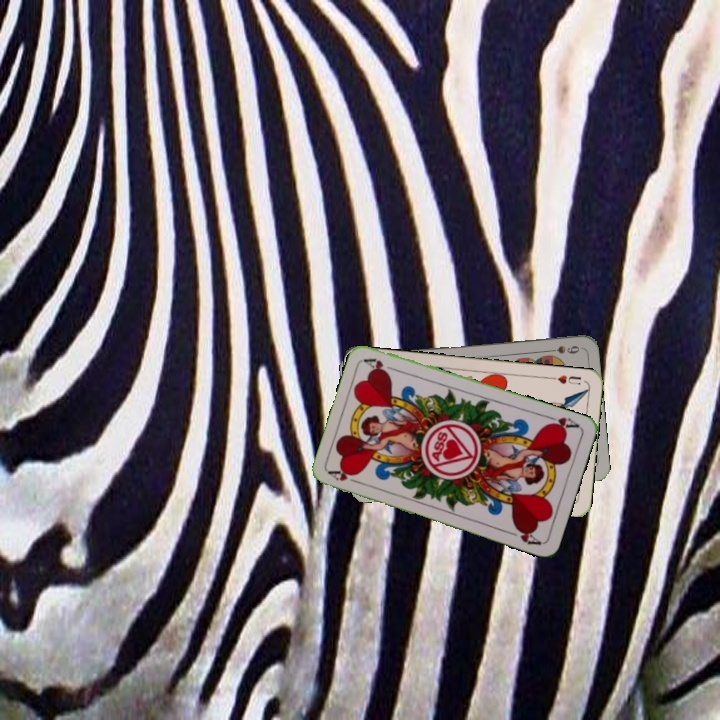HA: (542, 411, 582, 433), (325, 466, 365, 487)
HU: (546, 371, 583, 387)
S9: (542, 341, 582, 356)
